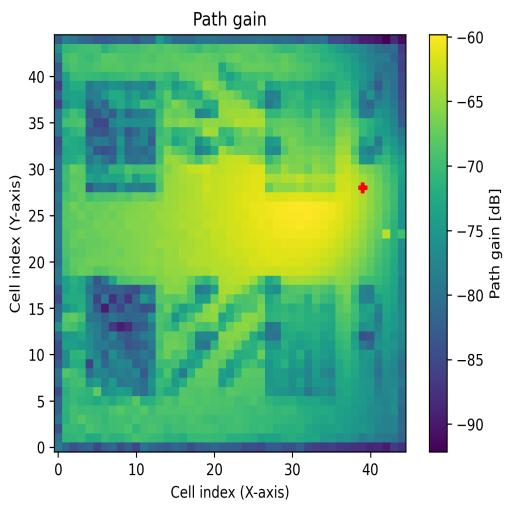Concrete: (266, 80, 336, 192)
Glass: (86, 81, 156, 192)
Metal: (265, 284, 337, 397)
Wood: (86, 285, 156, 397)
